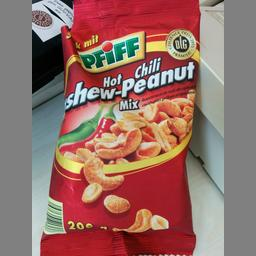nuts: (38, 0, 201, 255)
